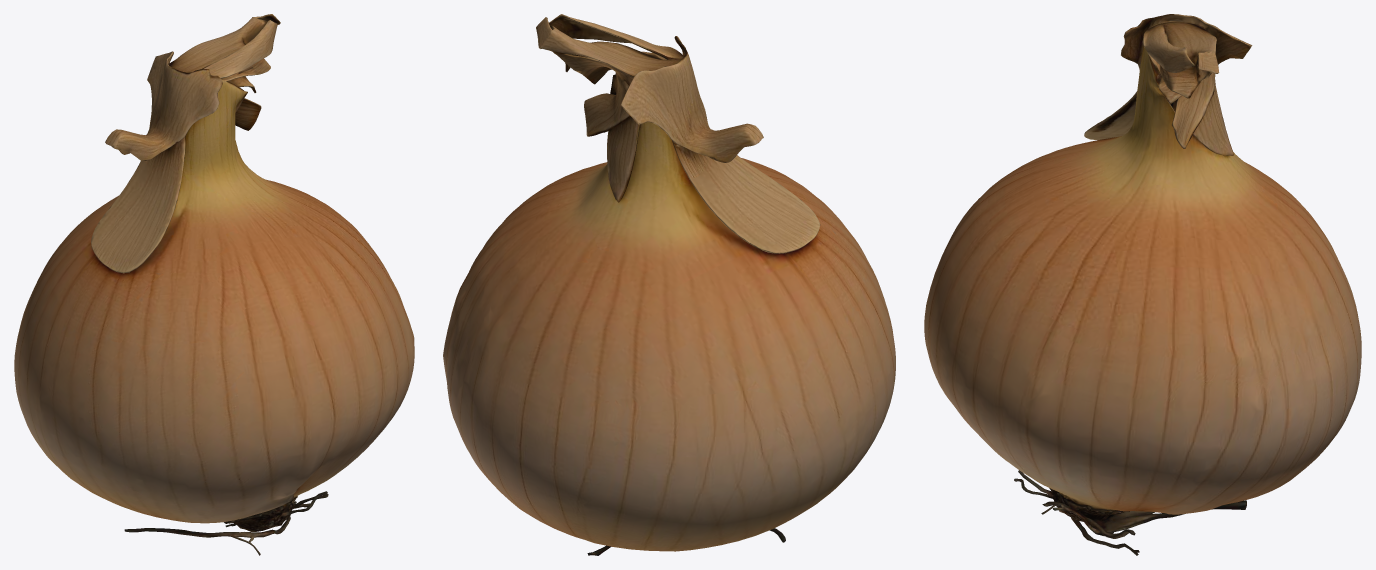
File: onion.glb
3 renders of one model, left to right at view 1: azimuth 30°, elevation 25°; view 2: azimuth 150°, elevation 25°; view 3: azimuth 270°, elevation 25°, orthographic. The views are drawn at different scales.
Parts seen in each view (by area): view 1: tripo_node_894305a6-f24a-4089-a0e6-32fa4a67bd94; view 2: tripo_node_894305a6-f24a-4089-a0e6-32fa4a67bd94; view 3: tripo_node_894305a6-f24a-4089-a0e6-32fa4a67bd94.
Part boxes in pixels (bbox=[...]): tripo_node_894305a6-f24a-4089-a0e6-32fa4a67bd94: bbox=[14, 14, 414, 555]; tripo_node_894305a6-f24a-4089-a0e6-32fa4a67bd94: bbox=[443, 14, 895, 555]; tripo_node_894305a6-f24a-4089-a0e6-32fa4a67bd94: bbox=[924, 14, 1361, 555].
Bounding box in the file's own units: 0.7604 × 1 × 0.7766.
Materials: 1 (1 with a texture image).
